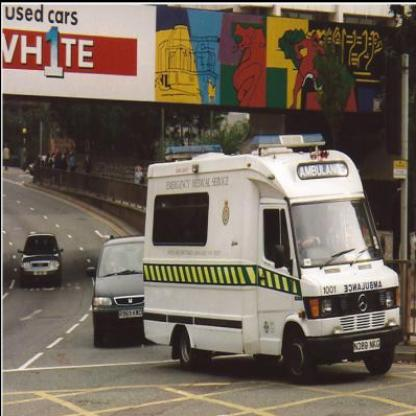truck: (144, 134, 402, 384)
